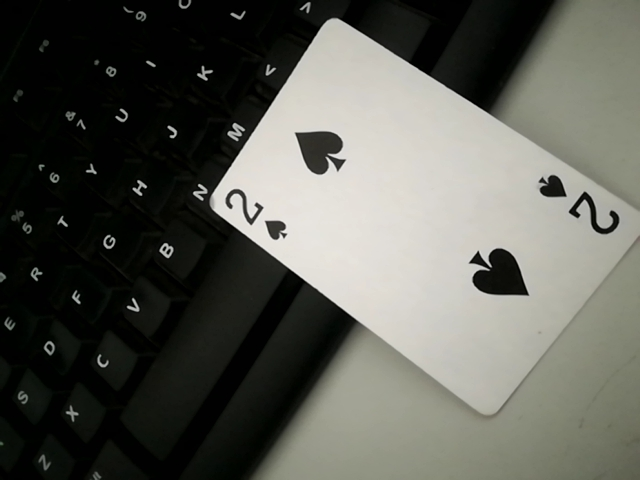ht 2: (188, 22, 634, 413)
